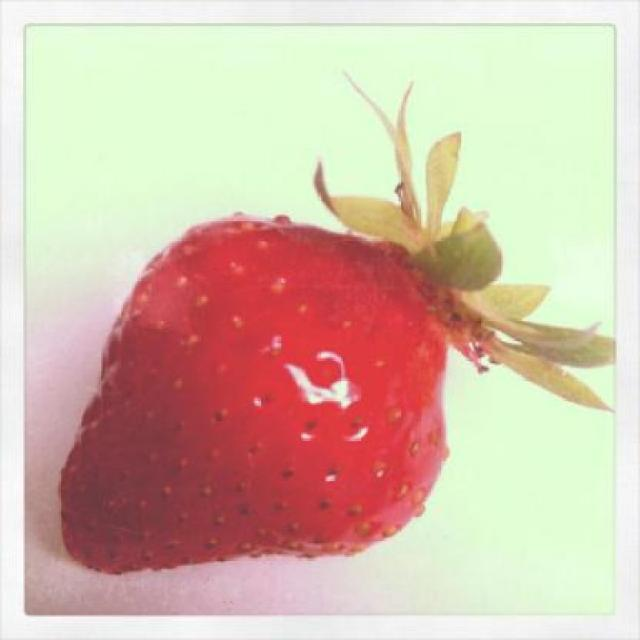Strawberry: (59, 119, 548, 546)
